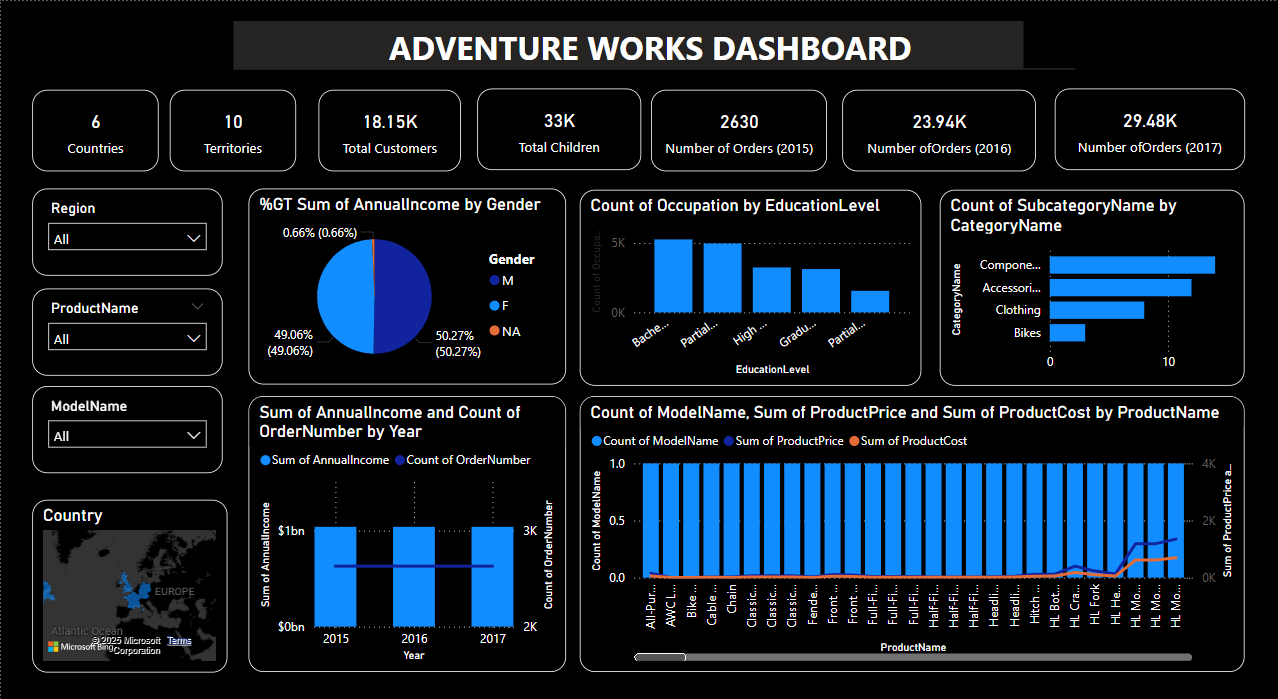

Layout of this report page (visuals, bound fields, positions):
{"tool":"powerbi","page":{"name":"Page 1","canvas":[1280,720],"ordinal":0},"visuals":[{"type":"textbox","box":[232.5,20,841.2,48.8],"z":0},{"type":"card","fields":{"Values":["Count(AdventureWorks_Territories.Country)"]},"box":[31.2,88.8,126.2,81.2],"z":1000},{"type":"pieChart","fields":{"Y":["Sum(AdventureWorks_Customers.AnnualIncome)"],"Category":["AdventureWorks_Customers.Gender"]},"box":[247.5,187.5,317.5,196.2],"z":2000},{"type":"columnChart","fields":{"Category":["AdventureWorks_Customers.EducationLevel"],"Y":["CountNonNull(AdventureWorks_Customers.Occupation)"]},"box":[578.8,188.8,341.2,196.2],"z":3000},{"type":"slicer","fields":{"Values":["AdventureWorks_Customers (2).Region"]},"box":[31.2,187.5,190,87.5],"z":4000},{"type":"barChart","fields":{"Y":["CountNonNull(AdventureWorks_Product_Subcategories.SubcategoryName)"],"Category":["AdventureWorks_Product_Categories.CategoryName"]},"box":[938.8,188.8,305,196.2],"z":5000},{"type":"card","fields":{"Values":["Sum(AdventureWorks_Customers.TotalChildren)"]},"box":[476.2,87.5,163.8,81.2],"z":6000},{"type":"card","fields":{"Values":["CountNonNull(AdventureWorks_Customers.CustomerKey)"]},"box":[317.5,88.8,142.5,81.2],"z":7000},{"type":"card","fields":{"Values":["CountNonNull(AdventureWorks_Sales_2015.OrderNumber)"]},"box":[650,88.8,176.2,81.2],"z":8000},{"type":"card","fields":{"Values":["CountNonNull(AdventureWorks_Sales_2016.OrderNumber)"]},"box":[841.2,88.8,193.8,81.2],"z":9000},{"type":"card","fields":{"Values":["CountNonNull(AdventureWorks_Sales_2017.OrderNumber)"]},"box":[1053.8,87.5,190,81.2],"z":10000},{"type":"lineStackedColumnComboChart","fields":{"Category":["AdventureWorks_Calendar.Date.Variation.Date Hierarchy.Year","AdventureWorks_Calendar.Date.Variation.Date Hierarchy.Quarter","AdventureWorks_Calendar.Date.Variation.Date Hierarchy.Month","AdventureWorks_Calendar.Date.Variation.Date Hierarchy.Day"],"Y":["Sum(AdventureWorks_Customers (2).AnnualIncome)"],"Y2":["CountNonNull(AdventureWorks_Sales_2015.OrderNumber)"]},"box":[247.5,395,317.5,276.2],"z":11000},{"type":"card","fields":{"Values":["CountNonNull(AdventureWorks_Territories.SalesTerritoryKey)"]},"box":[168.8,88.8,126.2,81.2],"z":12000},{"type":"filledMap","fields":{"Category":["AdventureWorks_Territories.Country"]},"box":[31.2,498.8,195,172.5],"z":13000},{"type":"lineStackedColumnComboChart","fields":{"Y":["CountNonNull(AdventureWorks_Products.ModelName)"],"Category":["AdventureWorks_Products.ProductName"],"Y2":["Sum(AdventureWorks_Products.ProductPrice)","Sum(AdventureWorks_Products.ProductCost)"]},"box":[578.8,395,665,276.2],"z":16000},{"type":"slicer","fields":{"Values":["AdventureWorks_Products.ProductName"]},"box":[31.2,287.5,190,87.5],"z":16001},{"type":"slicer","fields":{"Values":["AdventureWorks_Products.ModelName"]},"box":[31.2,385,190,87.5],"z":16002},{"type":"shape","box":[1022.5,20,257.5,47.5],"z":16003}]}

Visuals, with their boxes in screenshot pixels (x1, y1, x2, y2), scaled from the page's 1280x720 canvas onto the 1278x699 screenshot:
textbox: [left=232, top=19, right=1072, bottom=67]
card - Count(AdventureWorks_Territories.Country): [left=31, top=86, right=157, bottom=165]
pieChart - Sum(AdventureWorks_Customers.AnnualIncome) x AdventureWorks_Customers.Gender: [left=247, top=182, right=564, bottom=373]
columnChart - AdventureWorks_Customers.EducationLevel x CountNonNull(AdventureWorks_Customers.Occupation): [left=578, top=183, right=919, bottom=374]
slicer - AdventureWorks_Customers (2).Region: [left=31, top=182, right=221, bottom=267]
barChart - CountNonNull(AdventureWorks_Product_Subcategories.SubcategoryName) x AdventureWorks_Product_Categories.CategoryName: [left=937, top=183, right=1242, bottom=374]
card - Sum(AdventureWorks_Customers.TotalChildren): [left=475, top=85, right=639, bottom=164]
card - CountNonNull(AdventureWorks_Customers.CustomerKey): [left=317, top=86, right=459, bottom=165]
card - CountNonNull(AdventureWorks_Sales_2015.OrderNumber): [left=649, top=86, right=825, bottom=165]
card - CountNonNull(AdventureWorks_Sales_2016.OrderNumber): [left=840, top=86, right=1033, bottom=165]
card - CountNonNull(AdventureWorks_Sales_2017.OrderNumber): [left=1052, top=85, right=1242, bottom=164]
lineStackedColumnComboChart - AdventureWorks_Calendar.Date.Variation.Date Hierarchy.Year x AdventureWorks_Calendar.Date.Variation.Date Hierarchy.Quarter: [left=247, top=383, right=564, bottom=652]
card - CountNonNull(AdventureWorks_Territories.SalesTerritoryKey): [left=169, top=86, right=295, bottom=165]
filledMap - AdventureWorks_Territories.Country: [left=31, top=484, right=226, bottom=652]
lineStackedColumnComboChart - CountNonNull(AdventureWorks_Products.ModelName) x AdventureWorks_Products.ProductName: [left=578, top=383, right=1242, bottom=652]
slicer - AdventureWorks_Products.ProductName: [left=31, top=279, right=221, bottom=364]
slicer - AdventureWorks_Products.ModelName: [left=31, top=374, right=221, bottom=459]
shape: [left=1021, top=19, right=1277, bottom=66]
